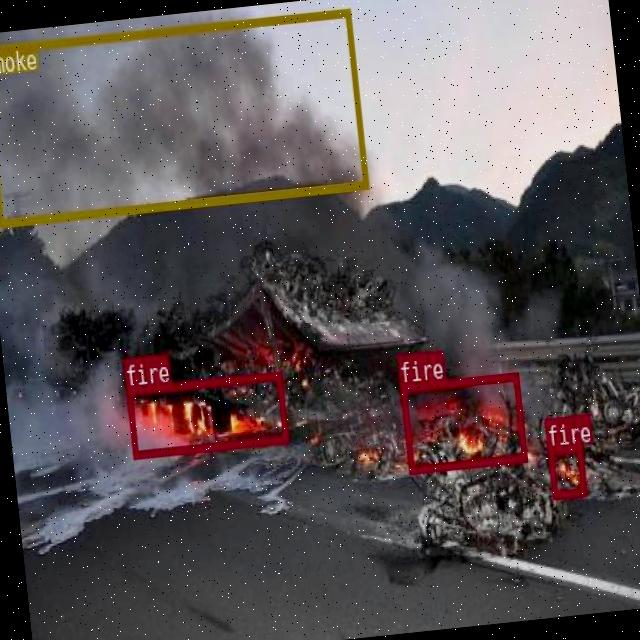fire: (125, 369, 288, 458), (399, 370, 526, 473), (546, 442, 586, 498)
smoke: (0, 6, 368, 225)
